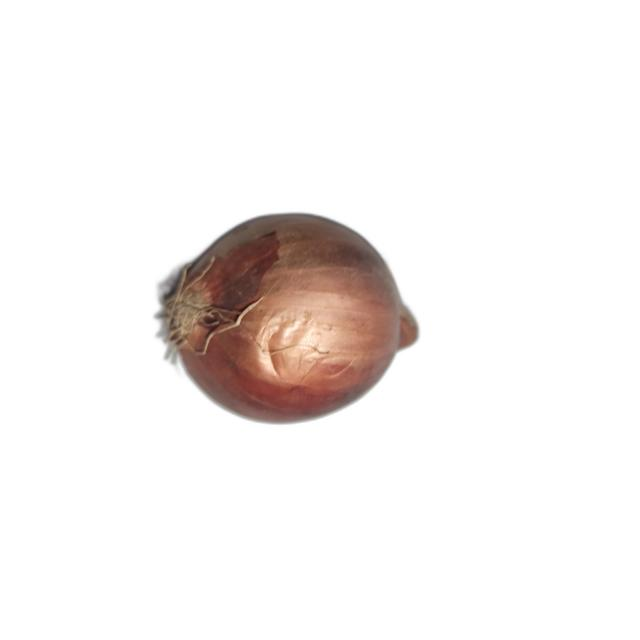onion: (152, 211, 423, 426)
